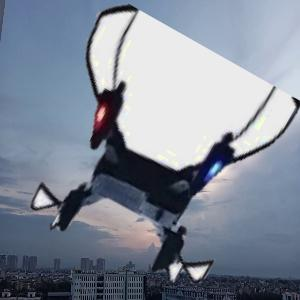drone: (34, 37, 276, 279)
